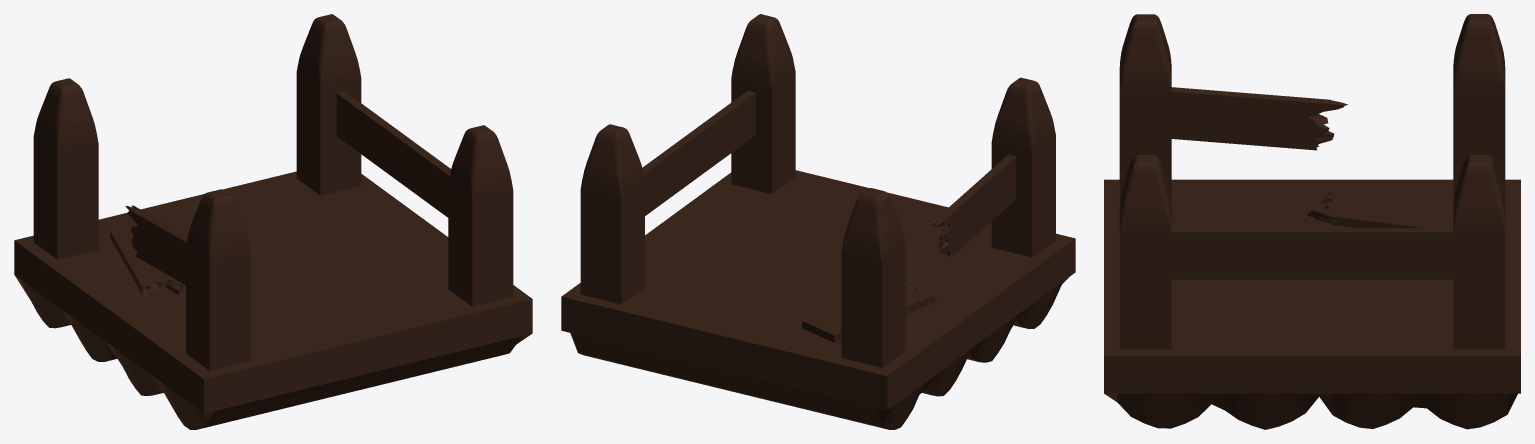
Rendered from bridge_broken.obj.
3 views of the same model, side by side, from view 1: azimuth 30°, elevation 25°; view 2: azimuth 150°, elevation 25°; view 3: azimuth 270°, elevation 25° (orthographic). The views are drawn at different scales.
Visible parts, largest first — view 1: bridge_tile, Cube.006, Cube.004, Cube.005, Cube.003, Cube.007, Cube.008, Cube.011; view 2: bridge_tile, Cube.006, Cube.003, Cube.004, Cube.005, Cube.007, Cube.008, Cube.011; view 3: bridge_tile, Cube.007, Cube.003, Cube.004, Cube.008, Cube.006, Cube.005, Cube.011.
Boxes of the visible parts, left/top/right/bottom form: bridge_tile: left=14, top=171, right=532, bottom=429; Cube.006: left=33, top=78, right=98, bottom=259; Cube.004: left=448, top=125, right=513, bottom=306; Cube.005: left=186, top=189, right=250, bottom=370; Cube.003: left=296, top=14, right=361, bottom=195; Cube.007: left=336, top=91, right=450, bottom=217; Cube.008: left=125, top=205, right=187, bottom=284; Cube.011: left=110, top=228, right=182, bottom=295; bridge_tile: left=561, top=170, right=1075, bottom=429; Cube.006: left=841, top=188, right=905, bottom=367; Cube.003: left=580, top=124, right=644, bottom=304; Cube.004: left=731, top=14, right=795, bottom=193; Cube.005: left=991, top=77, right=1055, bottom=257; Cube.007: left=642, top=90, right=755, bottom=215; Cube.008: left=930, top=154, right=1016, bottom=258; Cube.011: left=802, top=282, right=937, bottom=342; bridge_tile: left=1104, top=179, right=1520, bottom=429; Cube.007: left=1171, top=228, right=1453, bottom=279; Cube.003: left=1453, top=155, right=1505, bottom=349; Cube.004: left=1119, top=155, right=1171, bottom=349; Cube.008: left=1171, top=87, right=1347, bottom=150; Cube.006: left=1453, top=14, right=1505, bottom=206; Cube.005: left=1119, top=14, right=1171, bottom=206; Cube.011: left=1307, top=193, right=1453, bottom=227.
Bounding box in the file's own units: 2 × 1.37 × 2.
